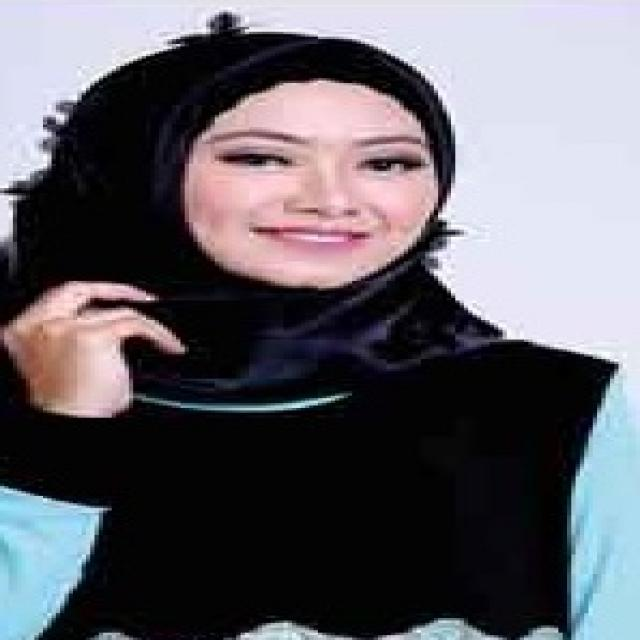head: (97, 26, 481, 299)
